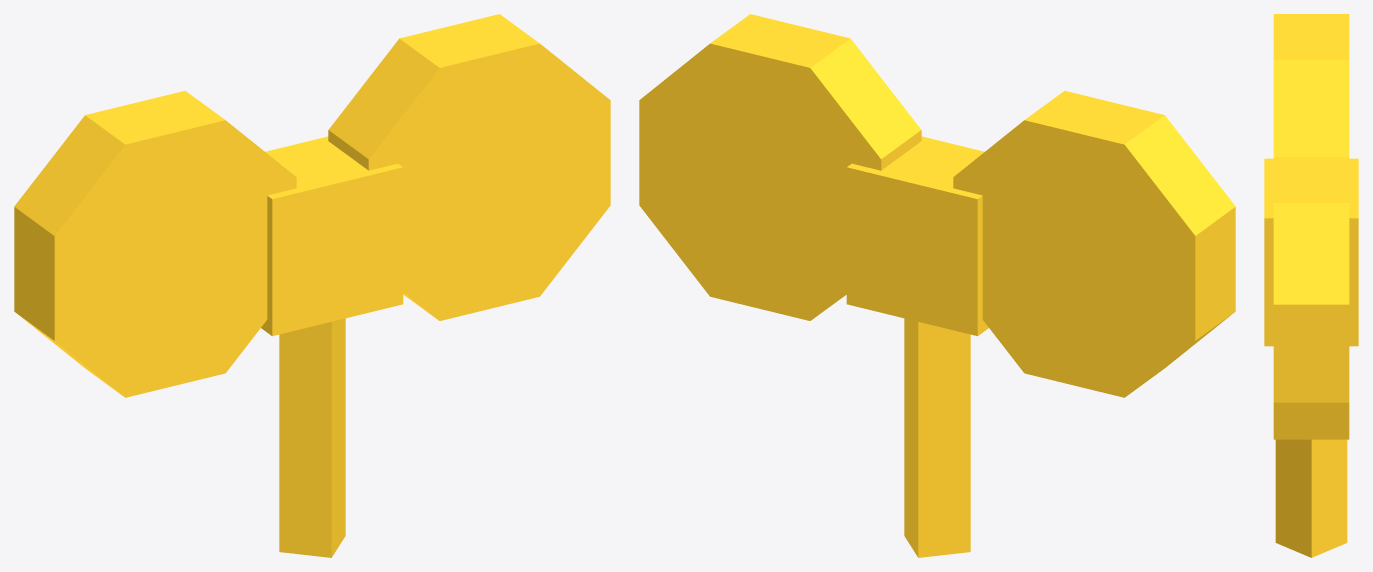
File: windup-key.glb
3 views of the same model, side by side, from view 1: azimuth 30°, elevation 25°; view 2: azimuth 150°, elevation 25°; view 3: azimuth 270°, elevation 25° (orthographic). The views are drawn at different scales.
Visible parts, largest first — view 1: windup-key; view 2: windup-key; view 3: windup-key.
Part boxes in pixels (bbox=[...]): windup-key: bbox=[14, 14, 610, 557]; windup-key: bbox=[639, 14, 1235, 557]; windup-key: bbox=[1264, 14, 1358, 557].
Size of the model in its own units: 0.6372 by 0.5086 by 0.1.
